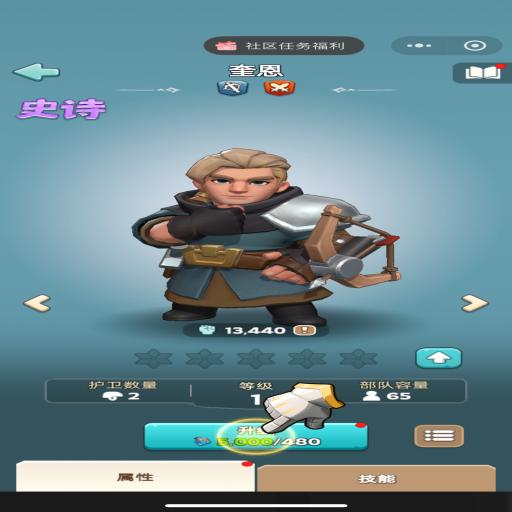newcomer_hand: (258, 382, 344, 432)
